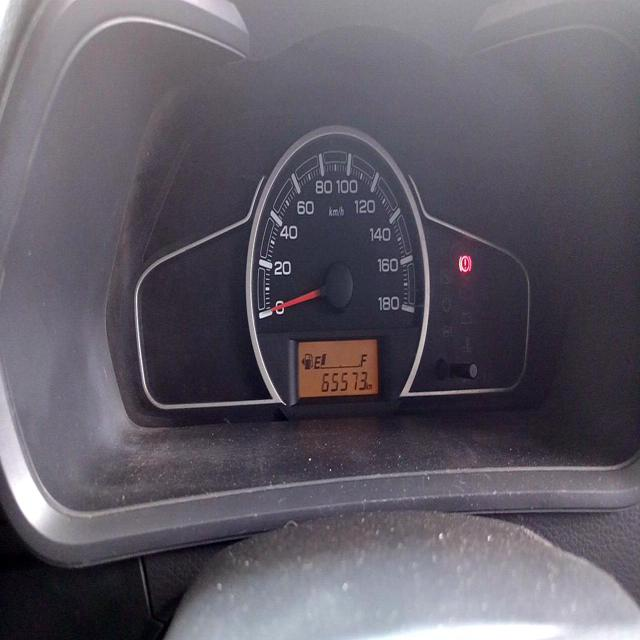odometer: (318, 364, 367, 397)
